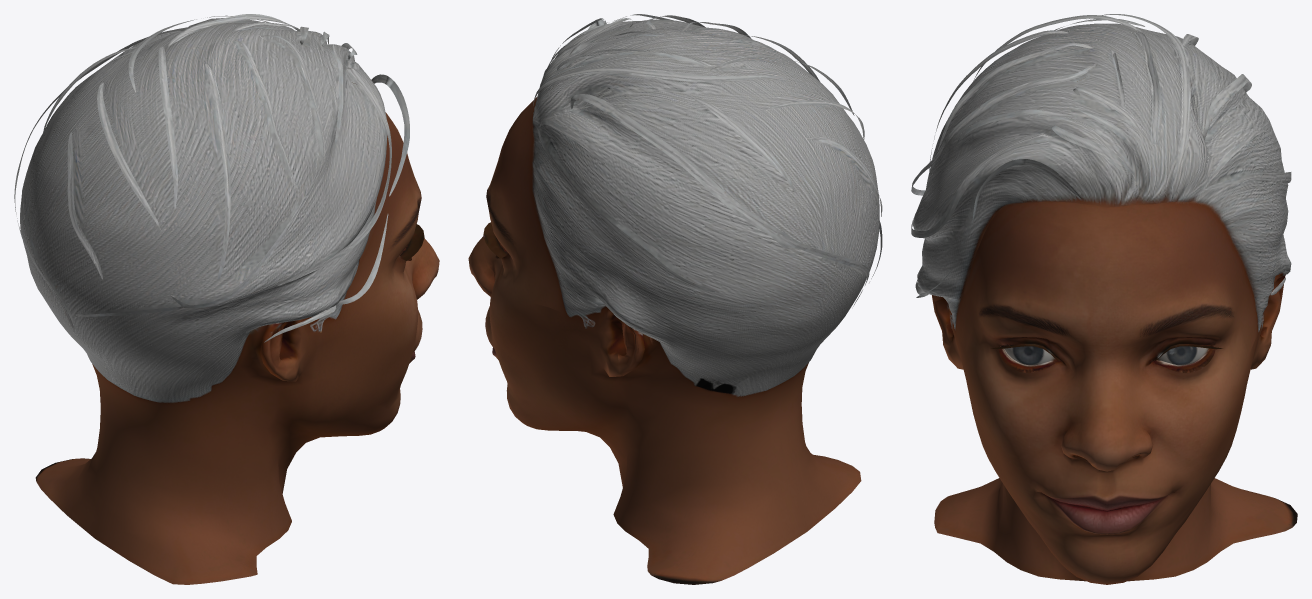
The model's file is source.glb.
3 views of the same model, side by side, from view 1: azimuth 30°, elevation 25°; view 2: azimuth 150°, elevation 25°; view 3: azimuth 270°, elevation 25° (orthographic). The views are drawn at different scales.
Visible parts, largest first — view 1: tripo_node_1e988a3d-346c-4473-9f86-9a3652c298fb; view 2: tripo_node_1e988a3d-346c-4473-9f86-9a3652c298fb; view 3: tripo_node_1e988a3d-346c-4473-9f86-9a3652c298fb.
Boxes of the visible parts, left/top/right/bottom form: tripo_node_1e988a3d-346c-4473-9f86-9a3652c298fb: left=14, top=14, right=439, bottom=584; tripo_node_1e988a3d-346c-4473-9f86-9a3652c298fb: left=468, top=14, right=882, bottom=584; tripo_node_1e988a3d-346c-4473-9f86-9a3652c298fb: left=911, top=14, right=1297, bottom=584.
Bounding box in the file's own units: 0.8784 × 0.9995 × 0.6792.
1 material, 1 textured.
